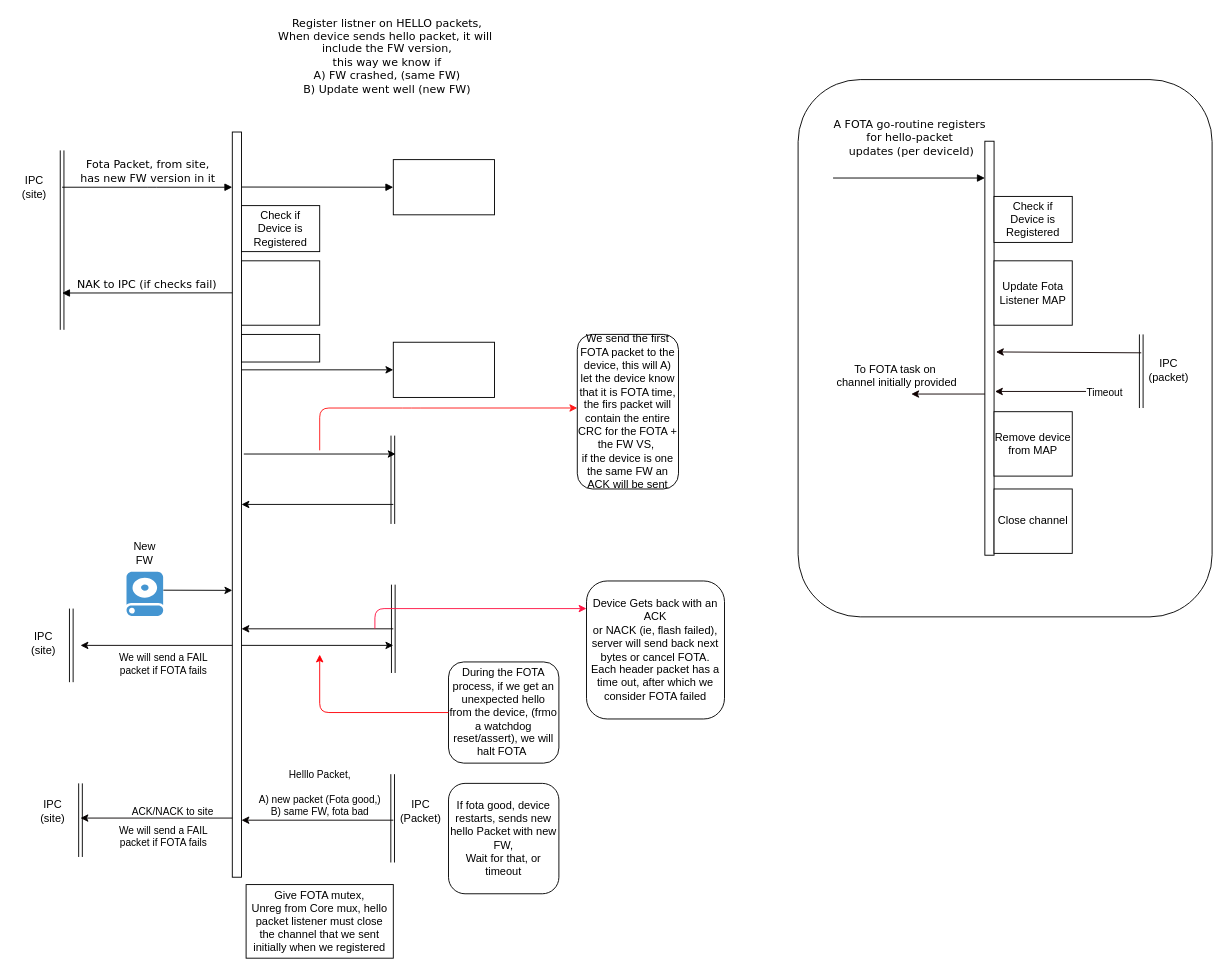
This 1228x974 diagram has some shape labels left out. Each missing label, with the box of its shape:
Check if FOTA is already underway for device?: (241, 260, 320, 325)
Register Listener on hello packets (checks for ClientId): (392, 159, 494, 215)
Register to Core Mux (give channel): (392, 341, 494, 397)
Take FOTA mutex: (241, 334, 320, 362)
